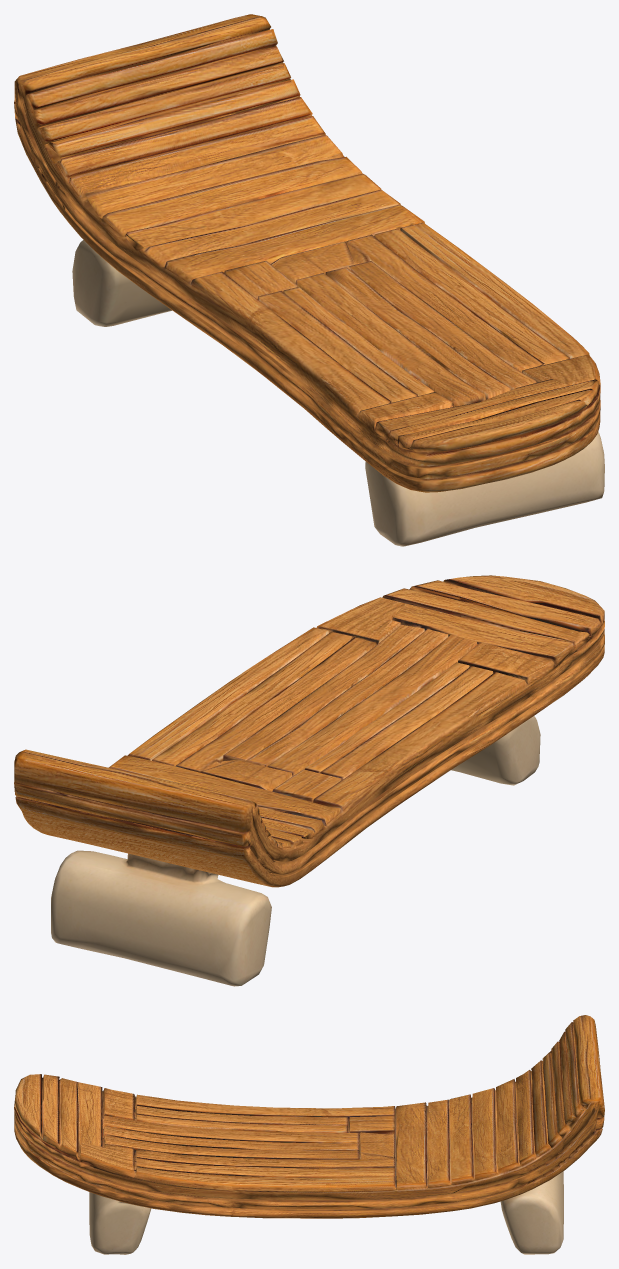
The model's file is garden-seat.glb.
The picture shows the model from 3 angles, top to bottom: view 1: azimuth 30°, elevation 25°; view 2: azimuth 150°, elevation 25°; view 3: azimuth 270°, elevation 25°; orthographic projection. The views are drawn at different scales.
Parts seen in each view (by area): view 1: tripo_node_a8754d95-7786-42d9-a01a-7ba12abf7f19; view 2: tripo_node_a8754d95-7786-42d9-a01a-7ba12abf7f19; view 3: tripo_node_a8754d95-7786-42d9-a01a-7ba12abf7f19.
Part boxes in pixels (x1,y1,x2,y2): tripo_node_a8754d95-7786-42d9-a01a-7ba12abf7f19: [14, 14, 604, 546]; tripo_node_a8754d95-7786-42d9-a01a-7ba12abf7f19: [14, 575, 604, 986]; tripo_node_a8754d95-7786-42d9-a01a-7ba12abf7f19: [14, 1015, 604, 1254].
Bounding box in the file's own units: 0.3792 × 0.2989 × 1.
1 material, 1 textured.
